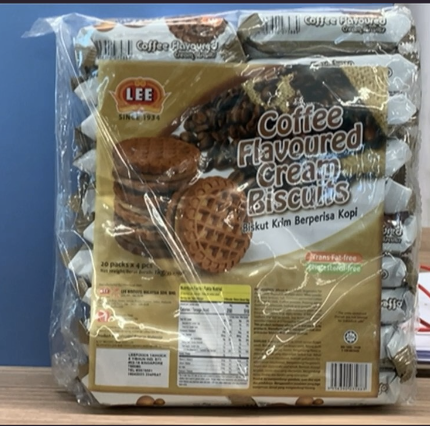cookies_1500g: (105, 61, 377, 396)
